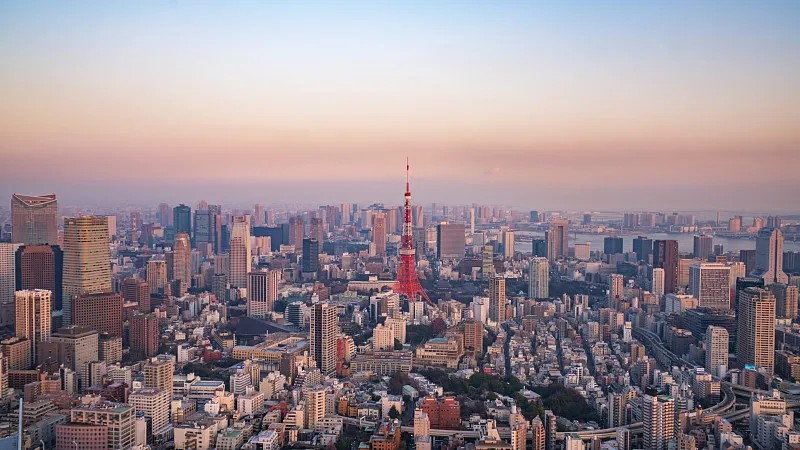Tokyo: (392, 151, 434, 305)
